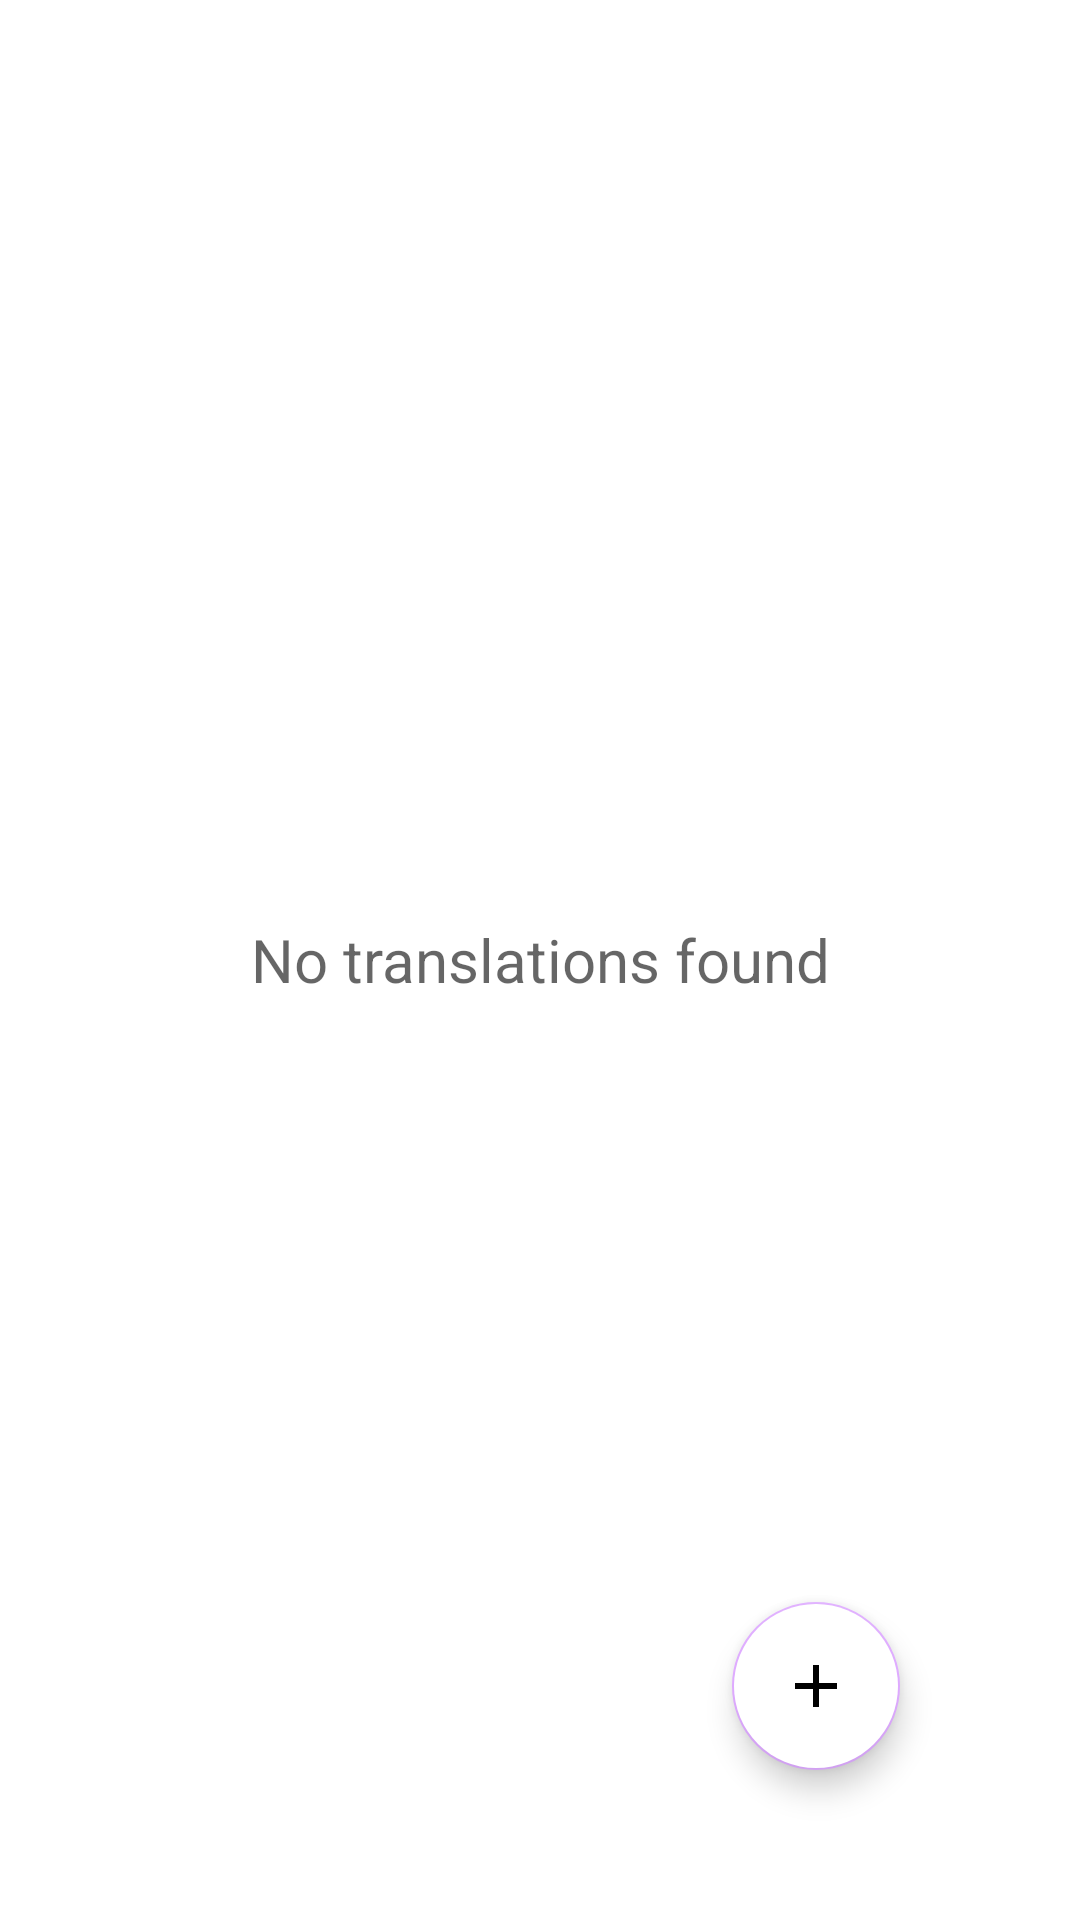

Named icons in this screenshot (1080*1920) and their centers, [x,y]:
Add translation: [816,1686]
